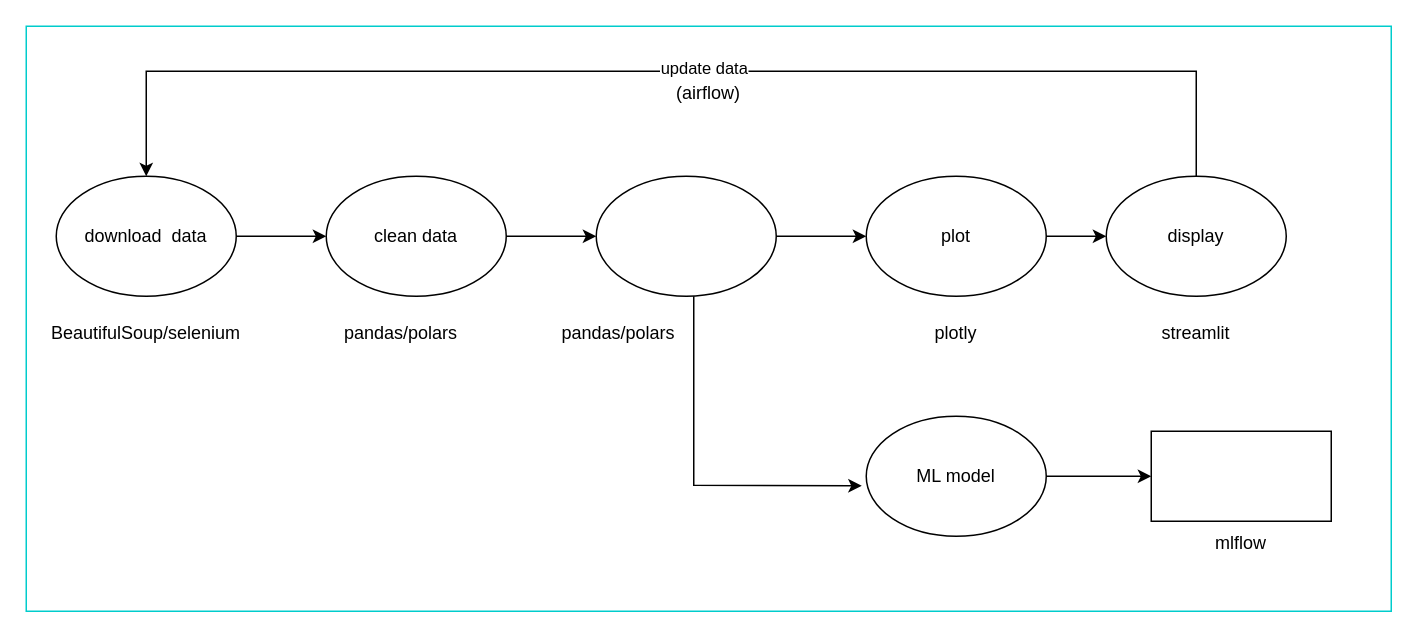
The diagram is 1418 pixels wide and 638 high, and some of its shapes have lost their labels. Each missing label, with the box of its shape:
process/transform data: (595, 175, 776, 296)
tracking server: (1150, 430, 1331, 521)
